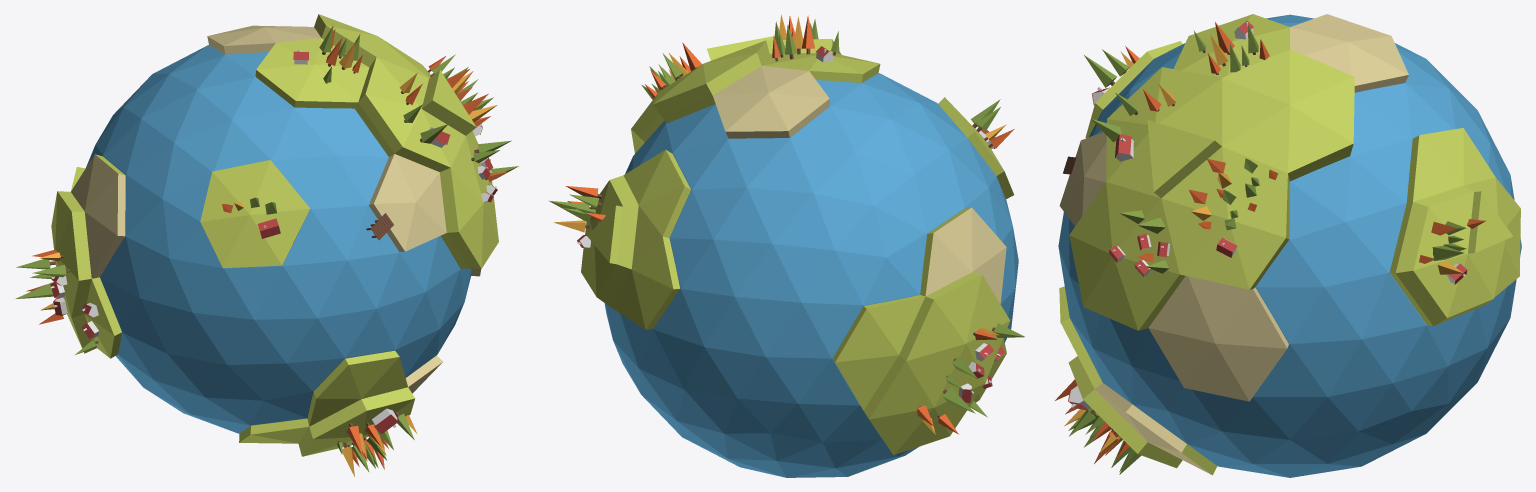
Rendered from planet.gltf.
3 views of the same model, side by side, from view 1: azimuth 30°, elevation 25°; view 2: azimuth 150°, elevation 25°; view 3: azimuth 270°, elevation 25° (orthographic). The views are drawn at different scales.
Parts seen in each view (by area): view 1: Water, Planet; view 2: Water, Planet; view 3: Planet, Water.
Boxes of the visible parts, x1=… form: Water: x1=86, y1=45, x2=472, y2=433; Planet: x1=51, y1=14, x2=498, y2=456; Water: x1=604, y1=73, x2=1018, y2=477; Planet: x1=581, y1=36, x2=1013, y2=455; Planet: x1=1059, y1=14, x2=1520, y2=475; Water: x1=1058, y1=14, x2=1521, y2=477.
Size of the model in its own units: 2.45 by 2.26 by 2.09.
